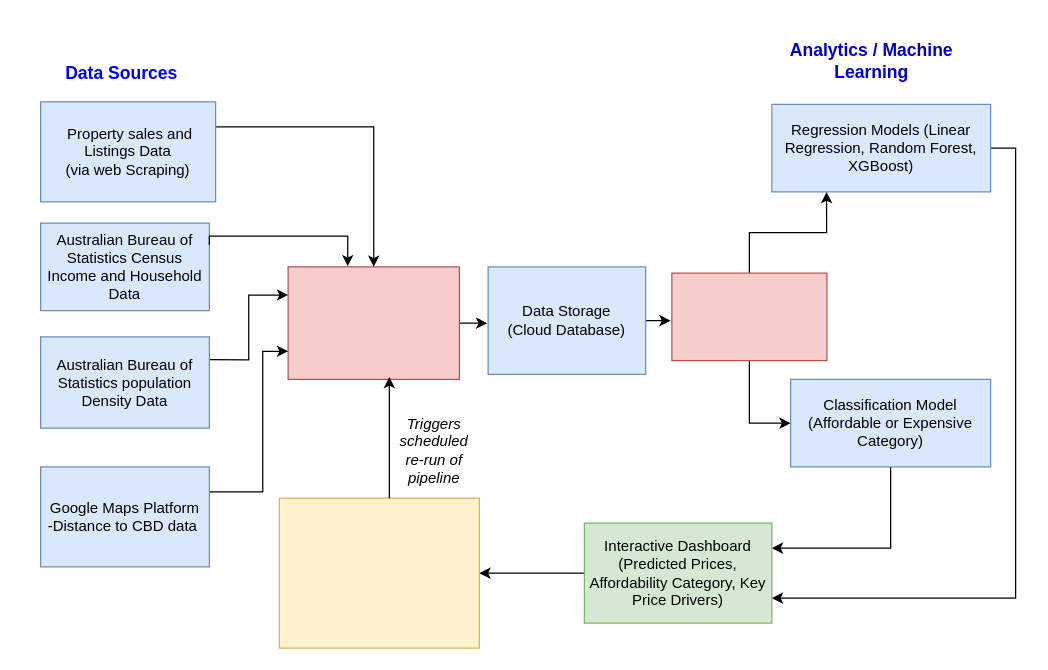
This 1048x670 diagram has some shape labels left out. The centre of each missing label's shape, as x and y in pixels:
Data Acquisition (API calls and Batch Extraction Scripts): point 373,322
Data Processing (Data Cleaning and Feature Engineering): point 749,316
Workflow Automation (Scheduled Data Refresh and Model Retraining): point 378,572
